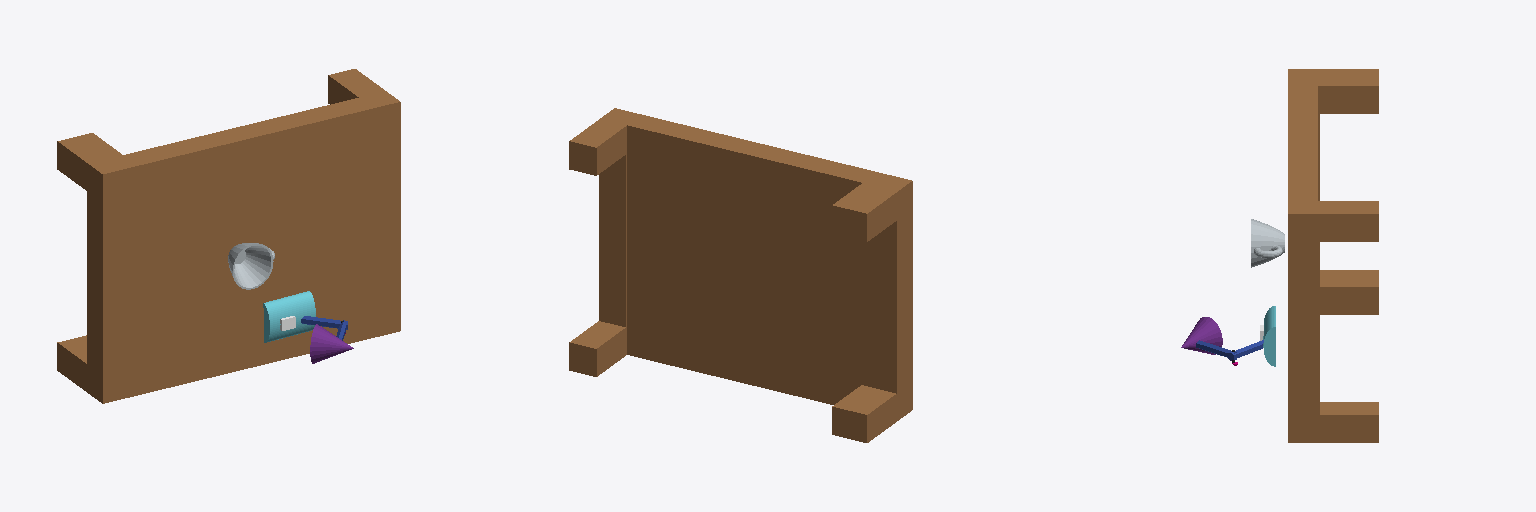
File: tinker.obj
The picture shows the model from 3 angles: view 1: azimuth 30°, elevation 25°; view 2: azimuth 150°, elevation 25°; view 3: azimuth 270°, elevation 25°; orthographic projection.
Visible parts, largest first — view 1: obj_0; view 2: obj_0; view 3: obj_0.
Boxes of the visible parts, <box> form: obj_0: <box>57,69,400,403</box>; obj_0: <box>569,108,912,442</box>; obj_0: <box>1181,69,1378,442</box>.
Size of the model in its own units: 110 by 81 by 63.44.